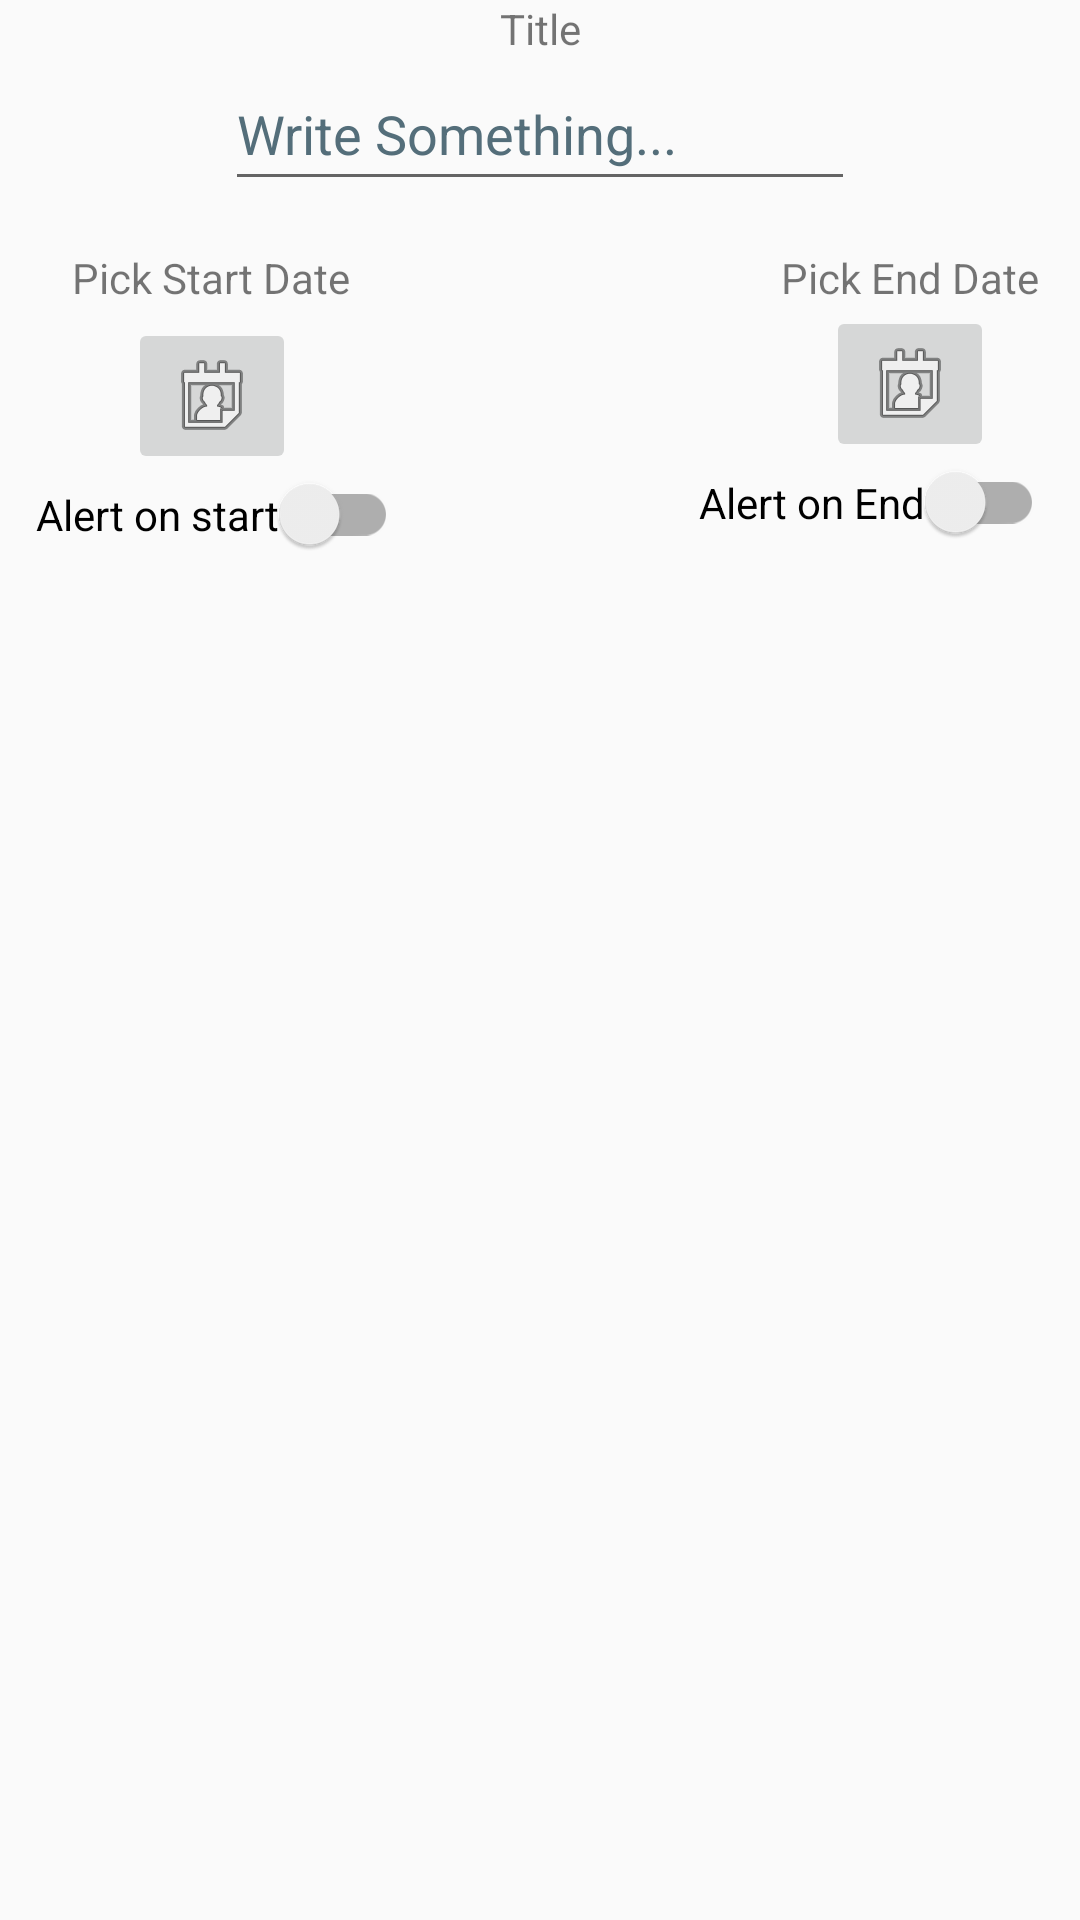

Where icons sit on this 1080px x 1920px app screen, as (x1, y1, x2, y2):
calendar: (838, 324, 982, 444), (140, 336, 284, 456)
